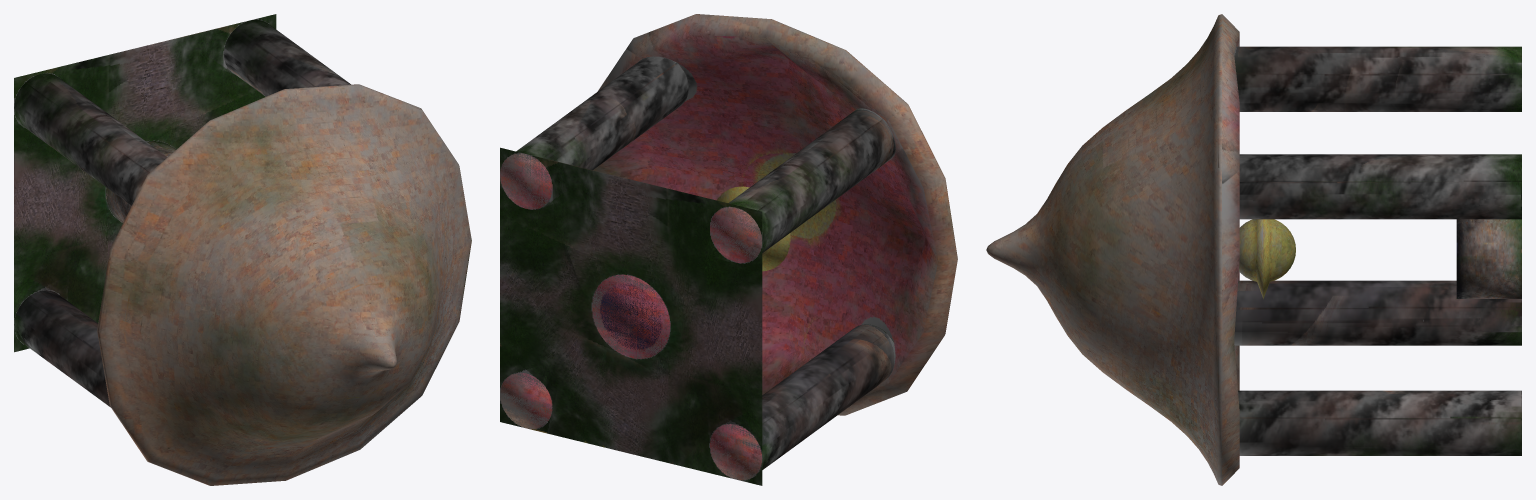
The model's file is Teleporter_10x10.fbx.
The picture shows the model from 3 angles, left to right: view 1: azimuth 30°, elevation 25°; view 2: azimuth 150°, elevation 25°; view 3: azimuth 270°, elevation 25°; orthographic projection. The views are drawn at different scales.
Visible parts, largest first — view 1: Cylinder_001; view 2: Cylinder_001; view 3: Cylinder_001.
Part boxes in pixels (x1,y1,x2,y2): Cylinder_001: (14,14,471,485); Cylinder_001: (500,14,957,485); Cylinder_001: (986,14,1521,485).
Size of the model in its own units: 14.27 by 14.27 by 16.43.
Materials: 1 (1 with a texture image).
